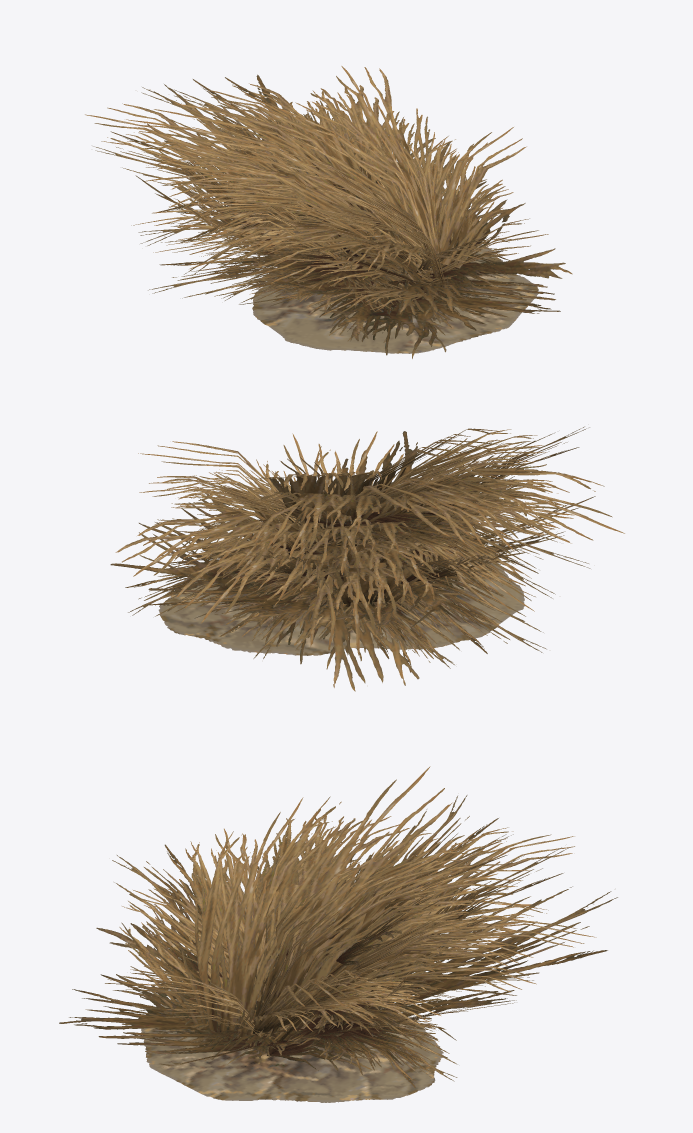
The model's file is sm_cao_6.FBX.
3 views of the same model, one above another, from view 1: azimuth 30°, elevation 25°; view 2: azimuth 150°, elevation 25°; view 3: azimuth 270°, elevation 25° (orthographic). The views are drawn at different scales.
Parts seen in each view (by area): view 1: sm_cao_6; view 2: sm_cao_6; view 3: sm_cao_6.
Part boxes in pixels (box(x1,y1,x2,y2)): sm_cao_6: box(85, 66, 572, 358); sm_cao_6: box(110, 426, 624, 691); sm_cao_6: box(59, 766, 617, 1102).
Size of the model in its own units: 134 by 58.25 by 168.
